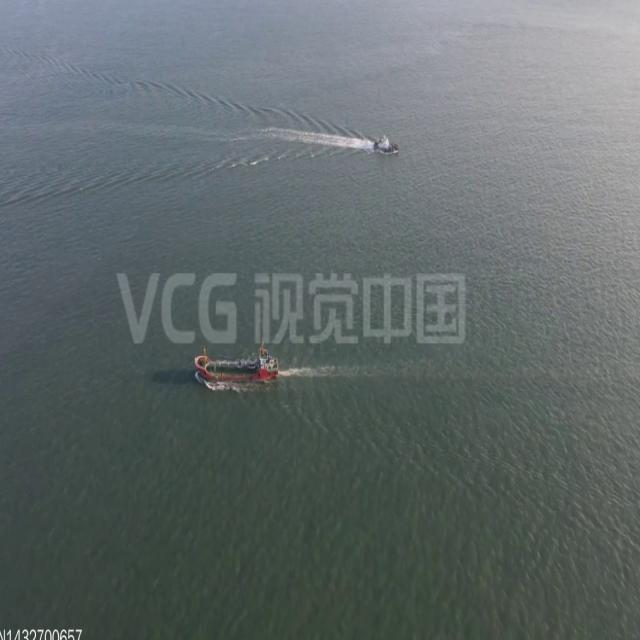cargoship: (193, 340, 280, 392), (370, 129, 402, 155)
